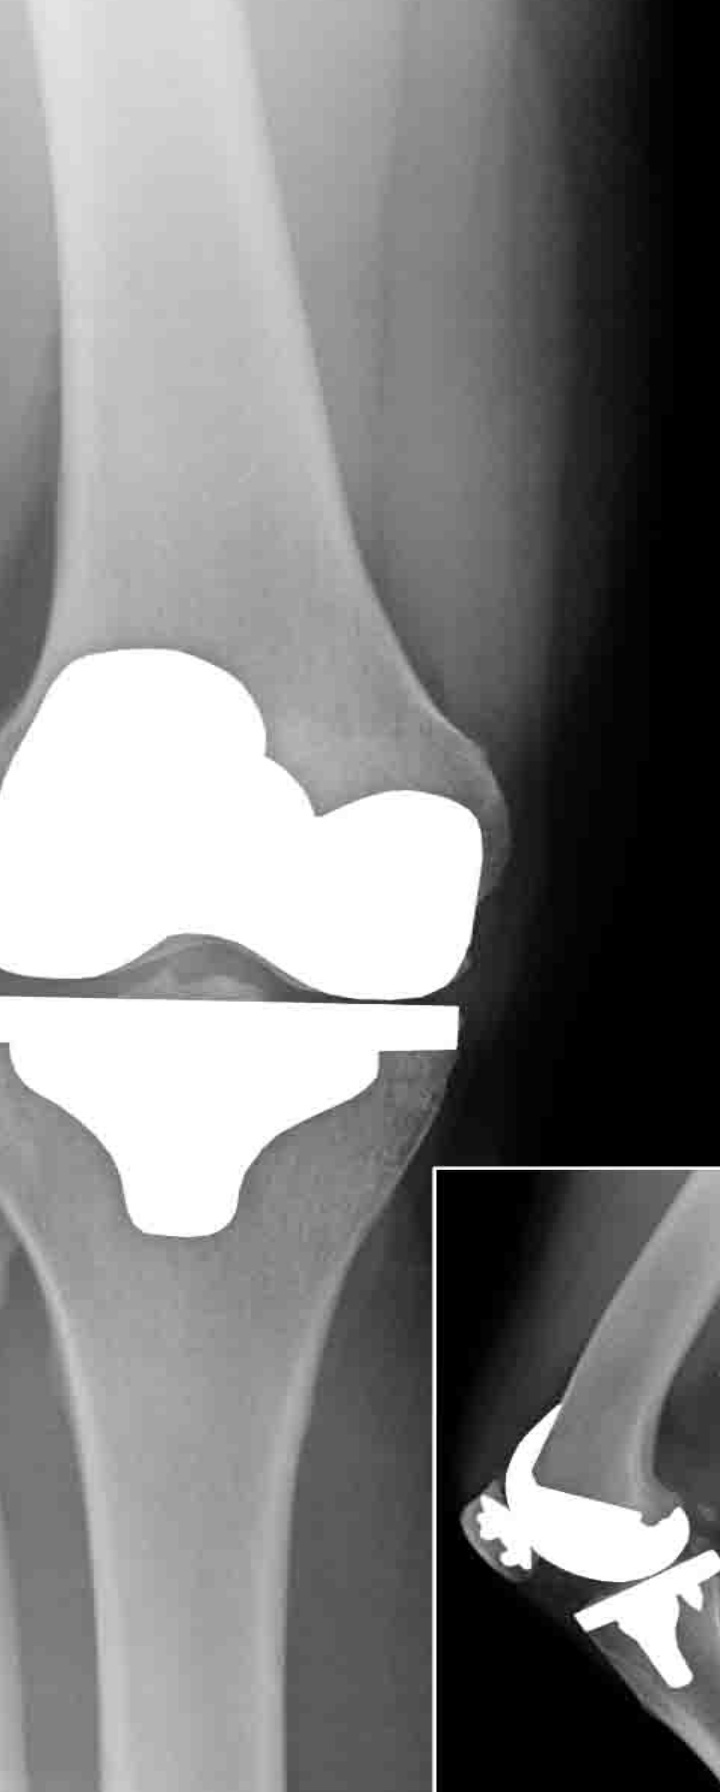Knee-TriathlonTritanium-Stryker: (1, 635, 498, 1240), (470, 1385, 720, 1709)
